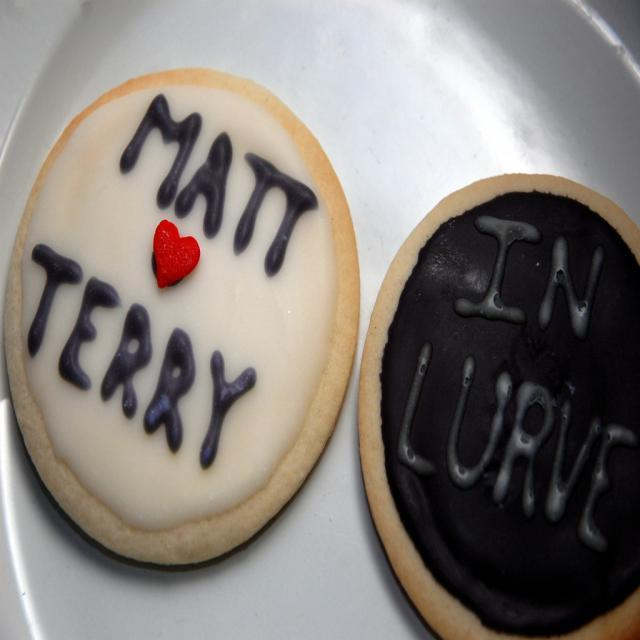Cookie: (1, 62, 361, 574), (357, 167, 639, 639)
